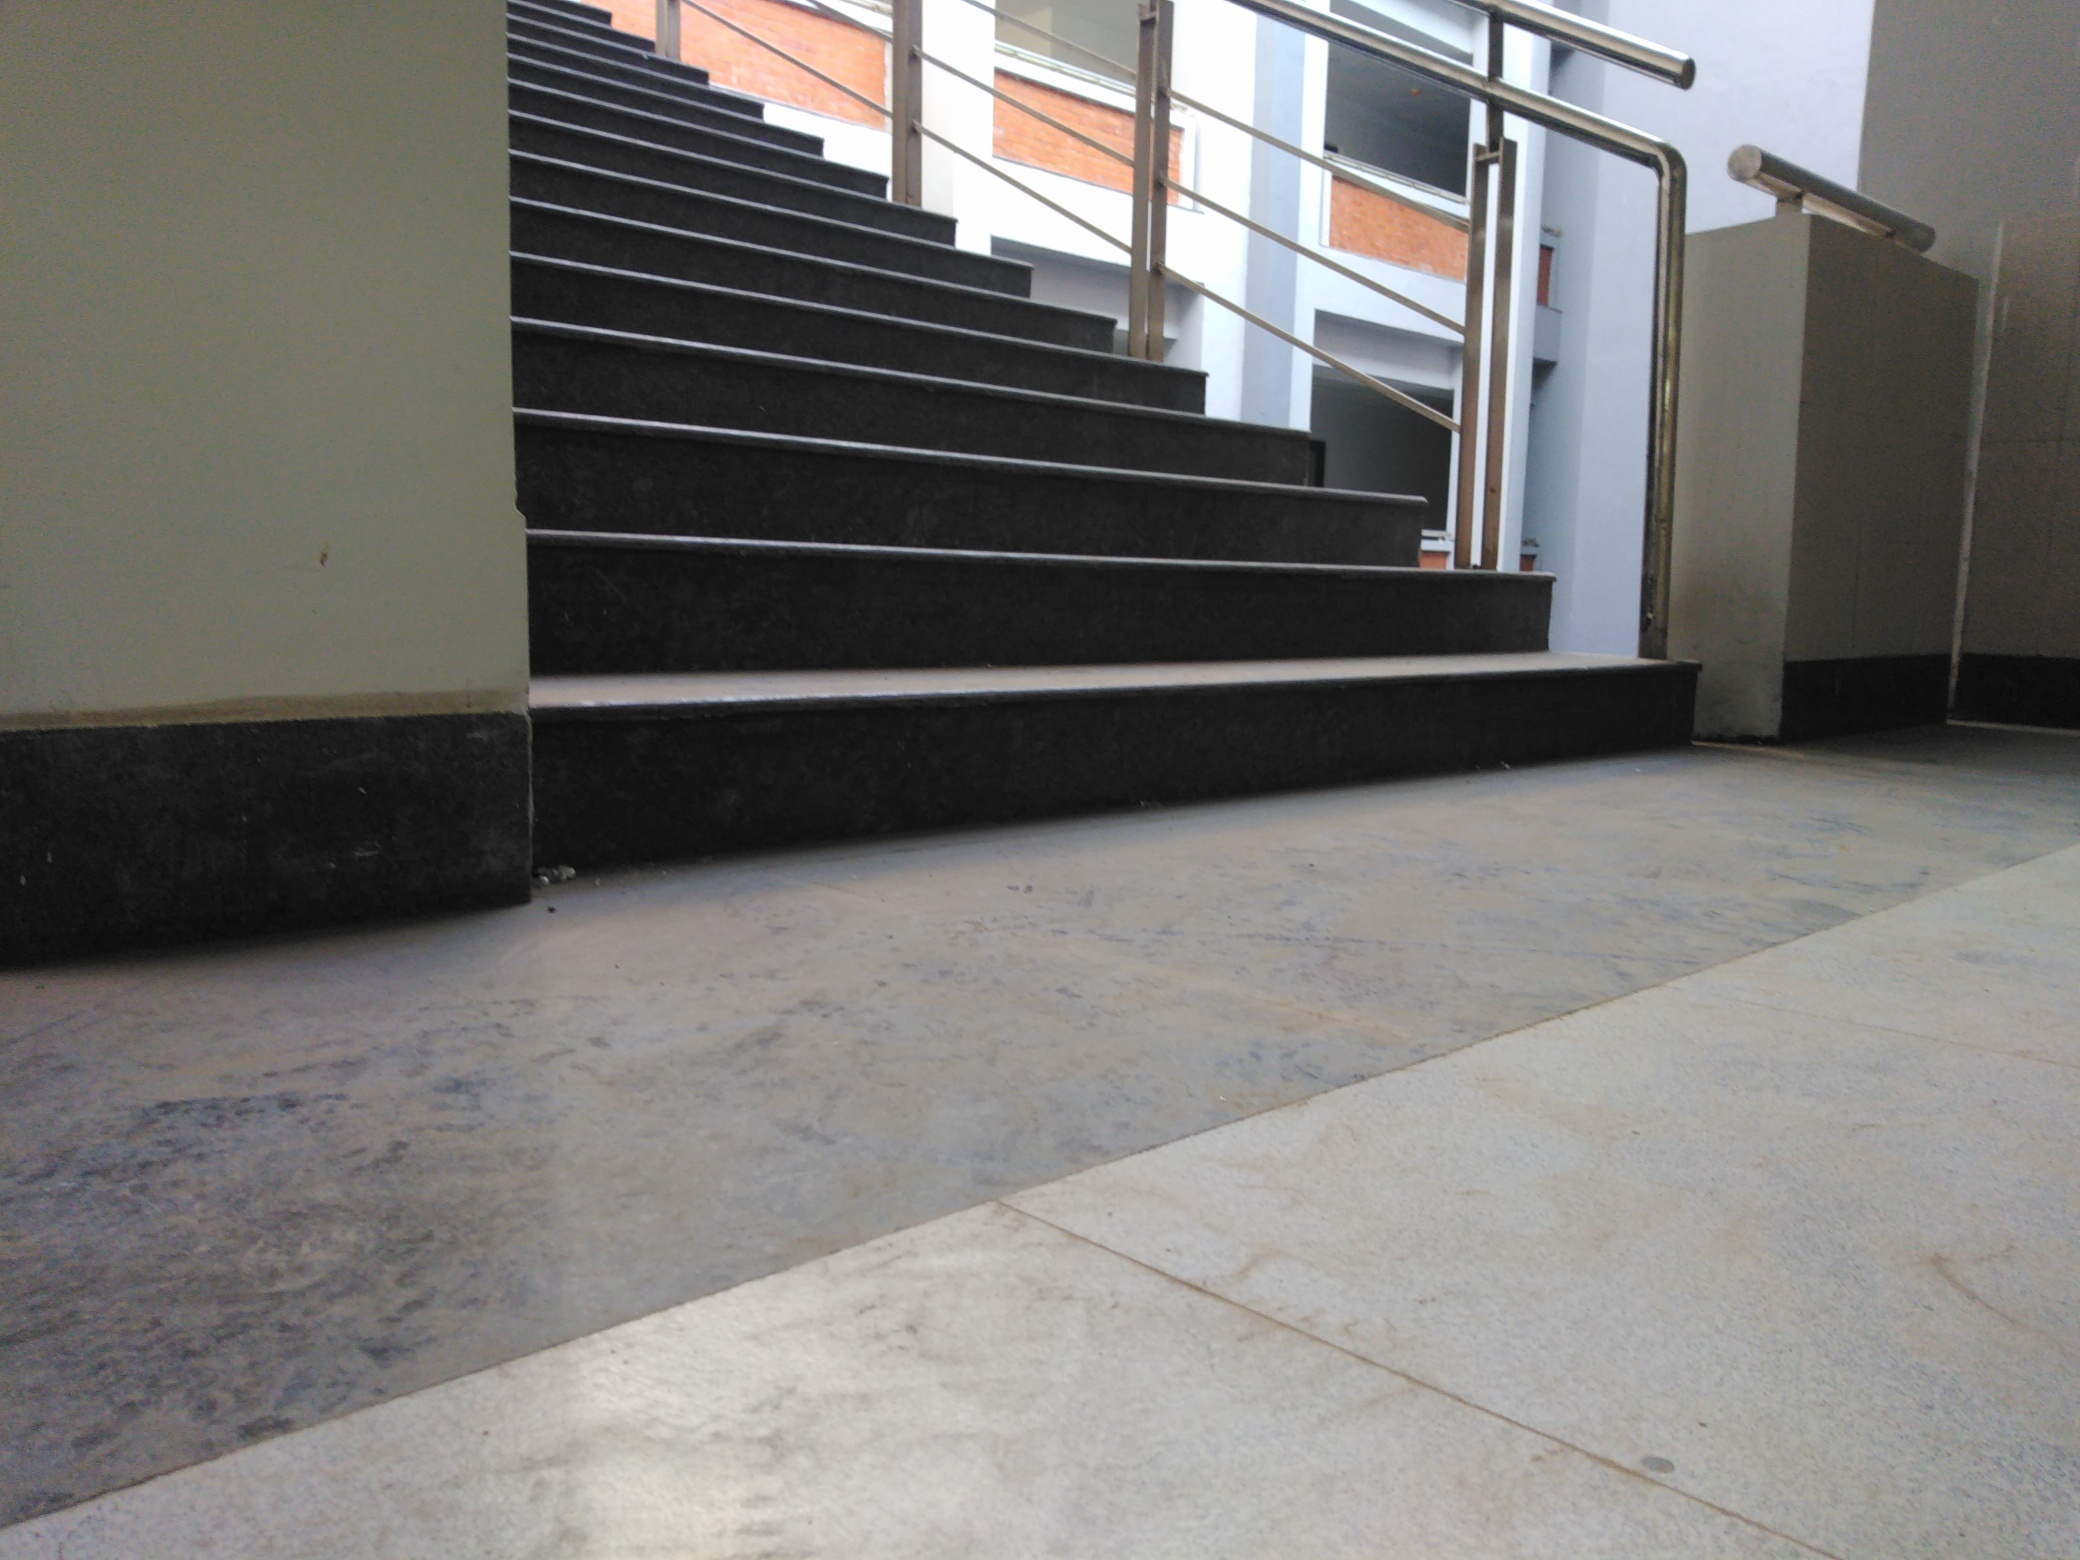stairs_up: (509, 26, 1603, 821)
